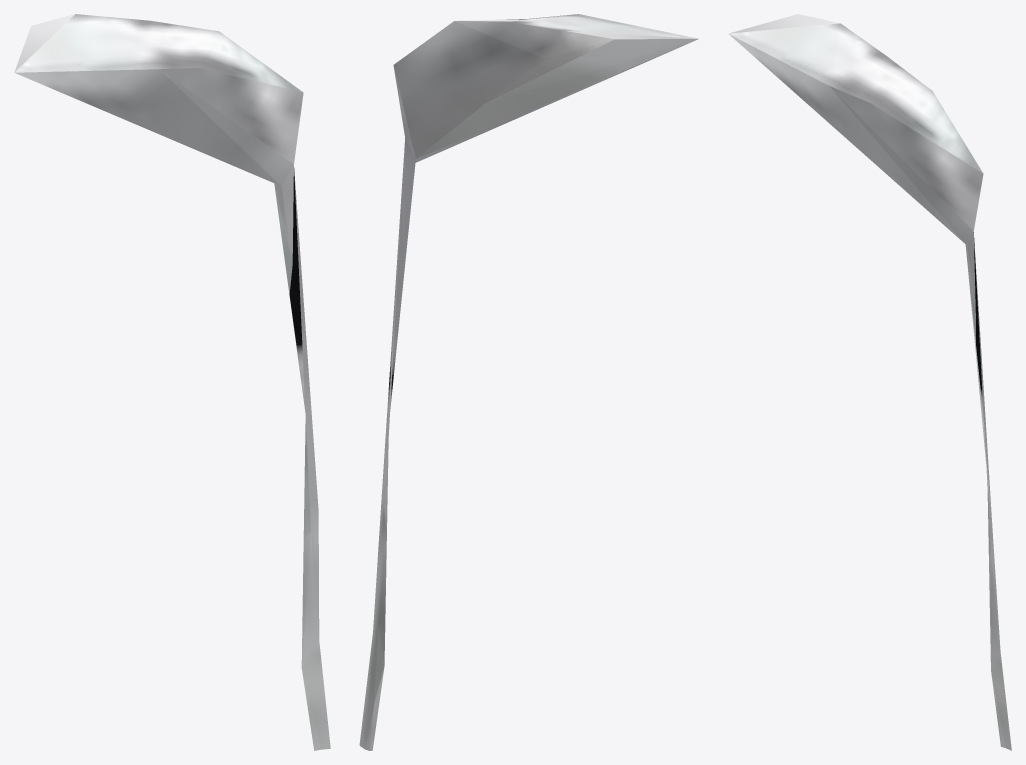
File: Tile_+007_+012_L20_0uuuu35.glb
3 renders of one model, left to right at view 1: azimuth 30°, elevation 25°; view 2: azimuth 150°, elevation 25°; view 3: azimuth 330°, elevation 25°, orthographic. The views are drawn at different scales.
Visible parts, largest first — view 1: rtc; view 2: rtc; view 3: rtc.
Boxes of the visible parts, bbox=[...] form: rtc: bbox=[14, 14, 330, 750]; rtc: bbox=[359, 14, 698, 750]; rtc: bbox=[728, 14, 1011, 750].
Size of the model in its own units: 1.82 by 4.15 by 0.4839.
Materials: 1 (1 with a texture image).
